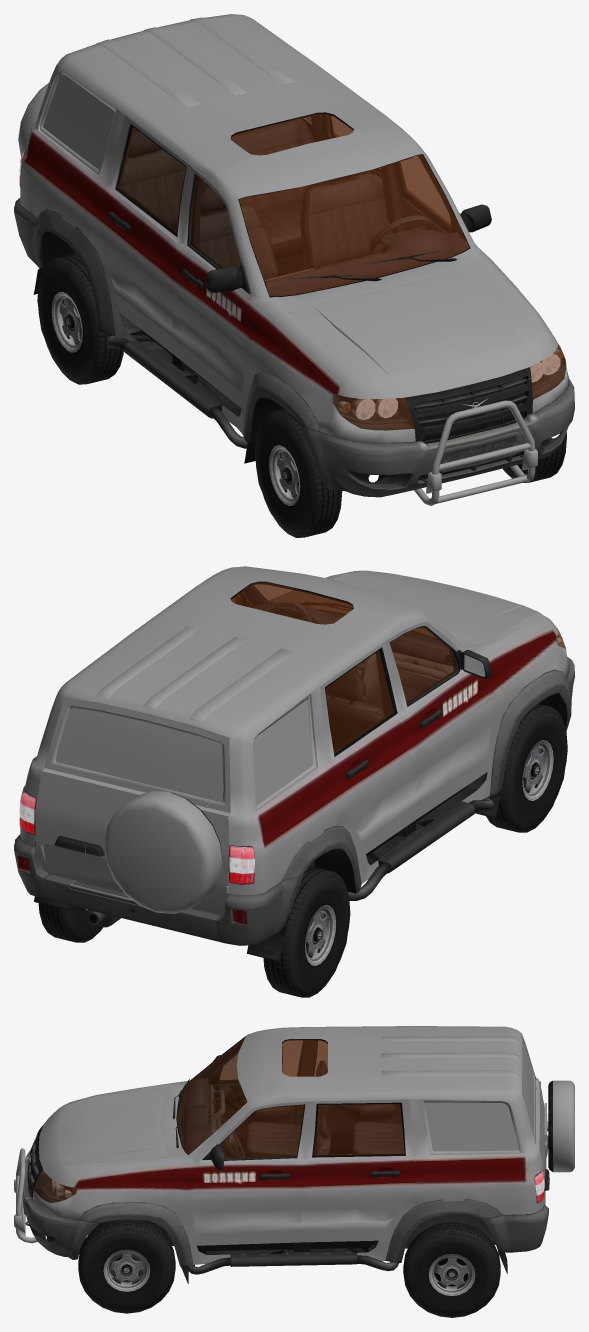
File: npc_uaz.glb
3 renders of one model, top to bottom at view 1: azimuth 30°, elevation 25°; view 2: azimuth 150°, elevation 25°; view 3: azimuth 270°, elevation 25°, orthographic. The views are drawn at different scales.
Parts seen in each view (by area): view 1: chassis_base_0, chassis_hodovaja_0, chassis_steklo_0, chassis_salon_0, Bonnet_ok_base_0, Door_rr_ok_base_0, Door_rf_ok_base_0, wheel_shina_0, wheel001_shina_0, chassis_priborka_0, Door_rr_ok_steklo_0, Door_rf_ok_steklo_0 (+12 smaller); view 2: chassis_base_0, boot_ok_base_0, chassis_hodovaja_0, Door_rr_ok_base_0, Door_rf_ok_base_0, Bonnet_ok_base_0, wheel001_shina_0, chassis_salon_0, wheel_shina_0, chassis_priborka_0, Door_rr_ok_steklo_0, chassis_steklo_0 (+8 smaller); view 3: chassis_base_0, chassis_hodovaja_0, Door_rf_ok001_base_0, Door_rr_ok001_base_0, Bonnet_ok_base_0, chassis_salon_0, chassis_steklo_0, wheel003_shina_0, wheel002_shina_0, Door_rr_ok001_steklo_0, boot_ok_base_0, Door_rf_ok001_steklo_0 (+11 smaller).
Boxes of the visible parts, x1,y1,x2,y2 form: chassis_base_0: (20,14,568,505); chassis_hodovaja_0: (14,198,574,497); chassis_steklo_0: (231,113,565,430); chassis_salon_0: (120,112,470,416); Bonnet_ok_base_0: (287,262,543,398); Door_rr_ok_base_0: (95,115,189,352); Door_rf_ok_base_0: (169,165,251,408); wheel_shina_0: (255,408,342,537); wheel001_shina_0: (37,253,123,384); chassis_priborka_0: (264,230,468,295); Door_rr_ok_steklo_0: (117,127,185,232); Door_rf_ok_steklo_0: (190,175,240,268); chassis_base_0: (20,566,568,895); boot_ok_base_0: (35,697,233,915); chassis_hodovaja_0: (14,602,574,961); Door_rr_ok_base_0: (319,641,418,853); Door_rf_ok_base_0: (385,622,491,818); Bonnet_ok_base_0: (289,570,537,645); wheel001_shina_0: (263,866,350,997); chassis_salon_0: (31,581,487,884); wheel_shina_0: (486,703,567,832); chassis_priborka_0: (254,602,453,712); Door_rr_ok_steklo_0: (325,651,393,753); chassis_steklo_0: (231,582,565,648); chassis_base_0: (14,1026,544,1264); chassis_hodovaja_0: (22,1079,548,1283); Door_rf_ok001_base_0: (192,1101,312,1245); Door_rr_ok001_base_0: (302,1099,414,1242); Bonnet_ok_base_0: (38,1086,168,1175); chassis_salon_0: (177,1036,542,1254); chassis_steklo_0: (33,1037,327,1202); wheel003_shina_0: (403,1222,500,1317); wheel002_shina_0: (78,1220,175,1313); Door_rr_ok001_steklo_0: (314,1104,404,1155); boot_ok_base_0: (522,1034,574,1196); Door_rf_ok001_steklo_0: (221,1105,303,1158).
Size of what is drawn, in the model's own units: 2.09 by 2.06 by 4.78.
Materials: 18 (13 with a texture image).
